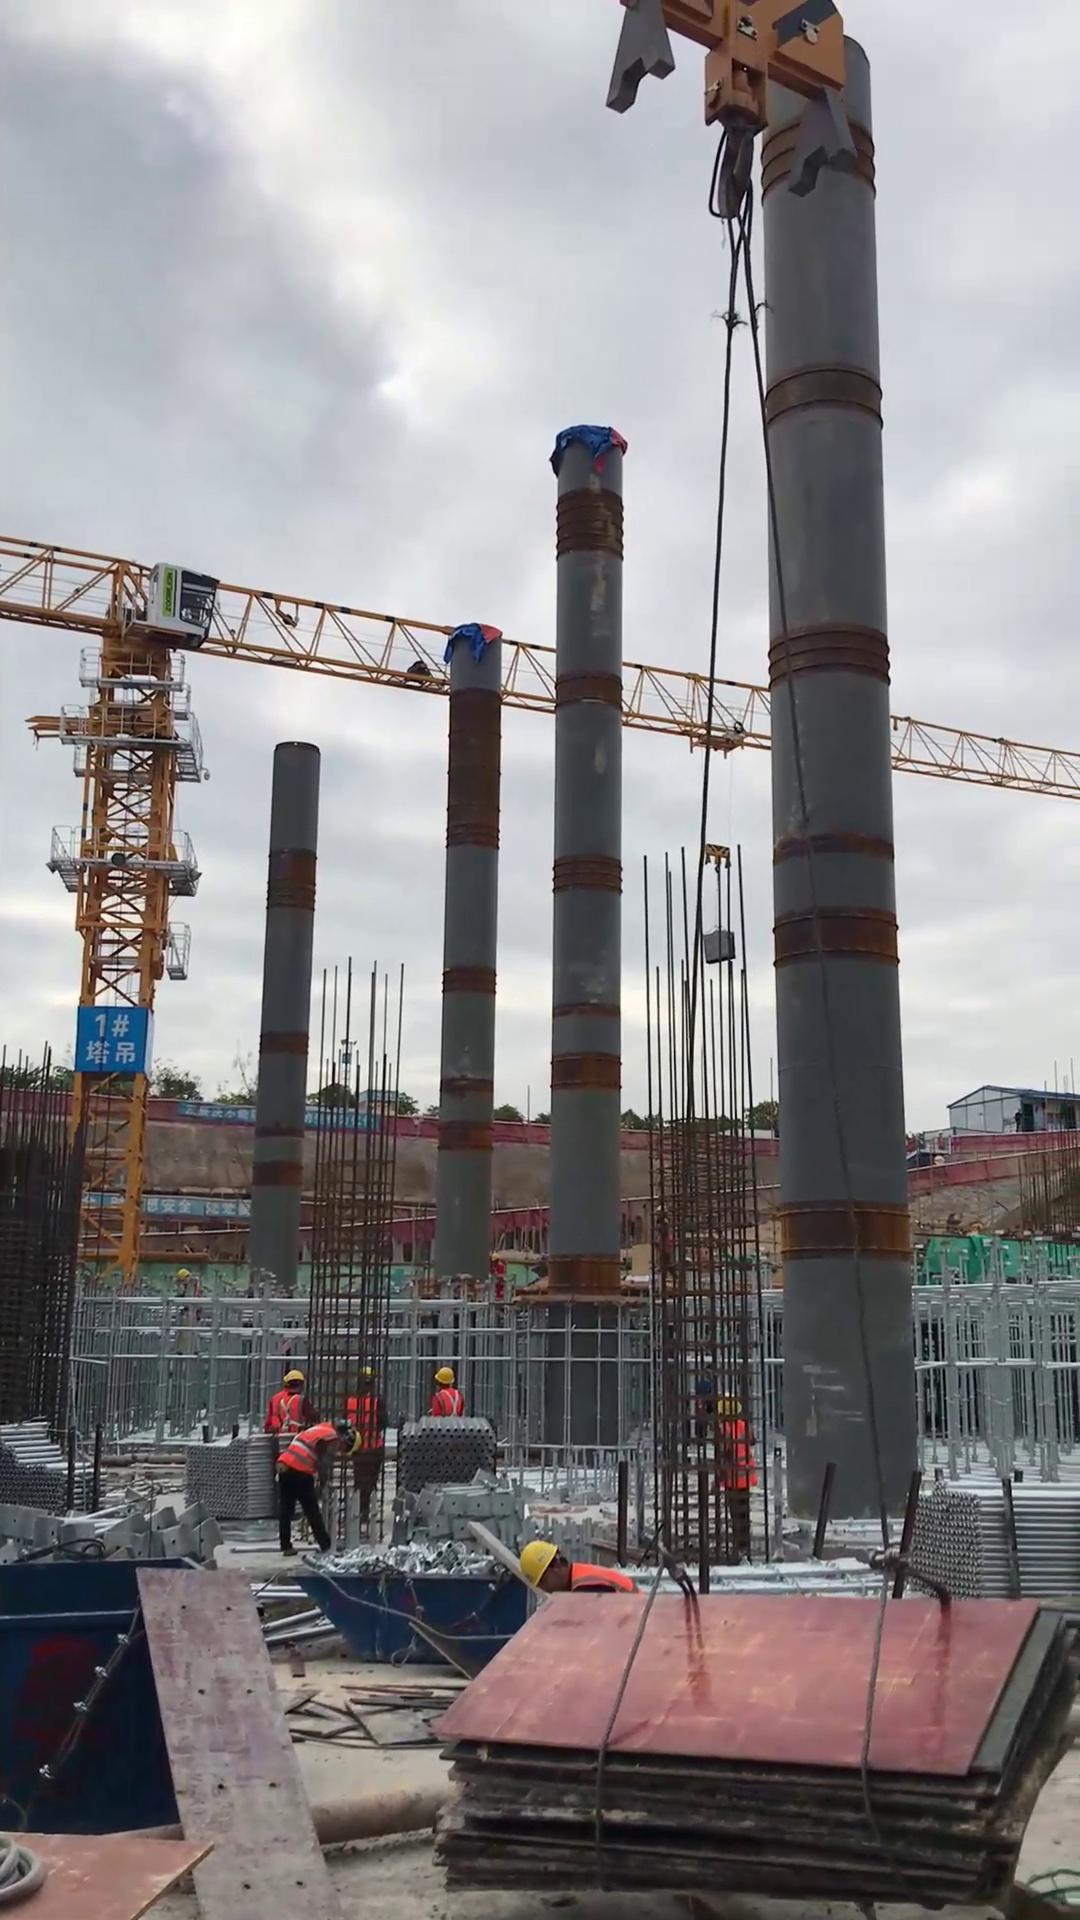board: (423, 1581, 1080, 1896)
helmet: (520, 1539, 562, 1595), (345, 1424, 365, 1462), (432, 1363, 459, 1389), (278, 1367, 309, 1389)
hook: (695, 837, 737, 879)
hopper: (1, 1558, 197, 1840), (314, 1558, 518, 1677)
person: (271, 1418, 371, 1561), (514, 1534, 645, 1612), (263, 1364, 322, 1438), (420, 1357, 474, 1424)
scaffold: (892, 1471, 1080, 1608), (1, 1413, 94, 1518), (186, 1424, 271, 1532), (392, 1413, 497, 1495)
slogan: (137, 1193, 253, 1221), (174, 1097, 257, 1126)
vest: (563, 1554, 639, 1601), (278, 1423, 341, 1479), (267, 1389, 309, 1437), (424, 1390, 465, 1424)
